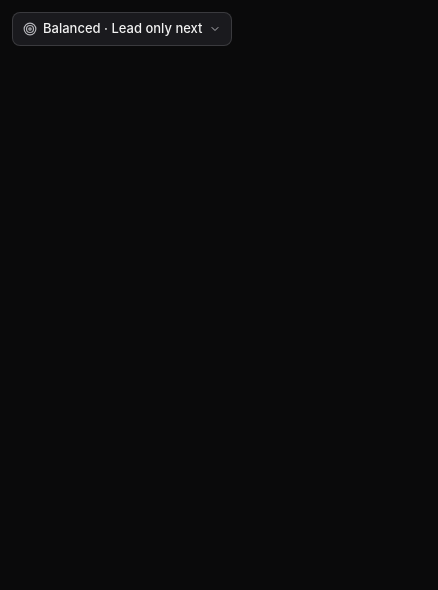
Test: GoalPicker › picks the goal and keeps a shape already queued for the next message
This screenshot has width=438, height=590.
Click the button with aria-label "Orchestrator goal".
click(122, 29)  # box [12,12,232,46]
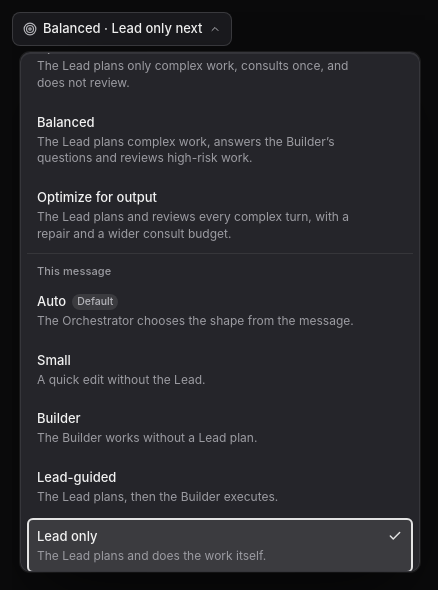
Click the option "Optimize for cost".
click(220, 64)  # box [27,28,413,100]
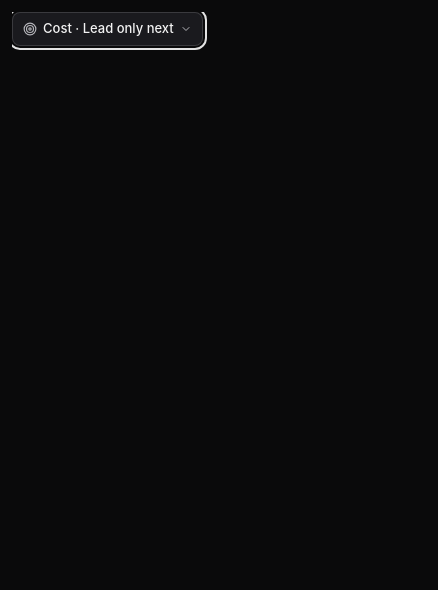
Expected: the button with aria-label "Orchestrator goal" reads "Cost · Lead only next", [12,12,203,46]
Expected: the button with aria-label "Orchestrator goal" is collapsed, [12,12,203,46]
